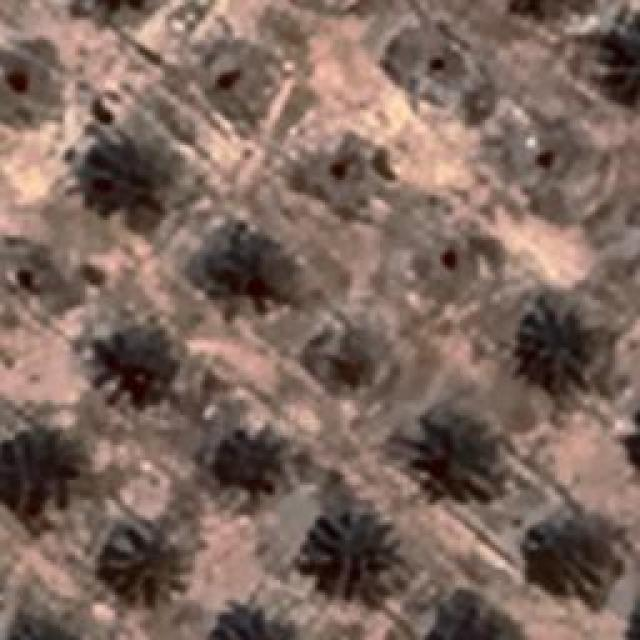PalmTree: (44, 29, 618, 95), (308, 510, 410, 608), (528, 518, 630, 602), (518, 296, 602, 392), (100, 524, 185, 608), (420, 418, 500, 500), (200, 226, 280, 306), (84, 142, 168, 215), (0, 431, 75, 511), (312, 321, 378, 399), (422, 595, 526, 640), (212, 429, 278, 499), (100, 324, 168, 388), (202, 598, 299, 640), (0, 612, 89, 640), (504, 0, 594, 21), (71, 0, 164, 19), (500, 0, 597, 17), (0, 622, 90, 640), (623, 393, 640, 484), (629, 394, 640, 486)
